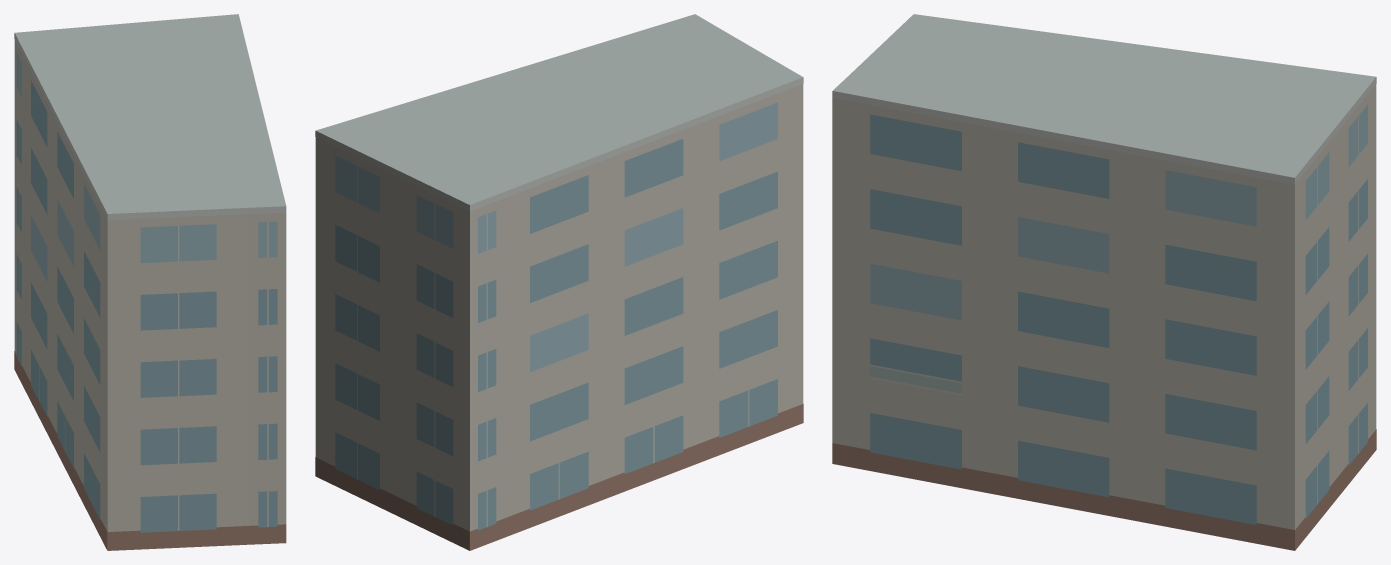
Rendered from survey-upis-32773434.glb.
The picture shows the model from 3 angles, left to right: view 1: azimuth 30°, elevation 25°; view 2: azimuth 150°, elevation 25°; view 3: azimuth 270°, elevation 25°; orthographic projection. The views are drawn at different scales.
Parts seen in each view (by area): view 1: survey-upis-32773434.tmp; view 2: survey-upis-32773434.tmp; view 3: survey-upis-32773434.tmp.
Boxes of the visible parts, x1=… form: survey-upis-32773434.tmp: x1=14, y1=14, x2=286, y2=550; survey-upis-32773434.tmp: x1=315, y1=14, x2=803, y2=550; survey-upis-32773434.tmp: x1=832, y1=14, x2=1376, y2=550.
Bounding box in the file's own units: 12.35 × 13.1 × 17.33.
